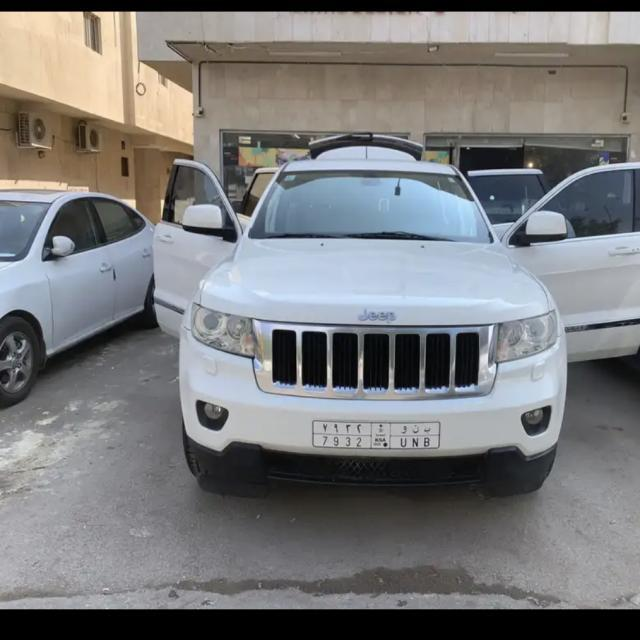license_plate: (310, 417, 440, 451)
